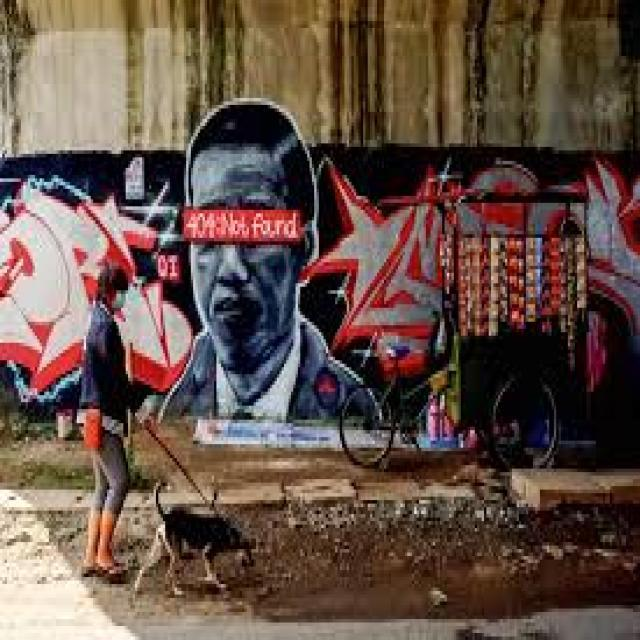-: (2, 99, 640, 415)
